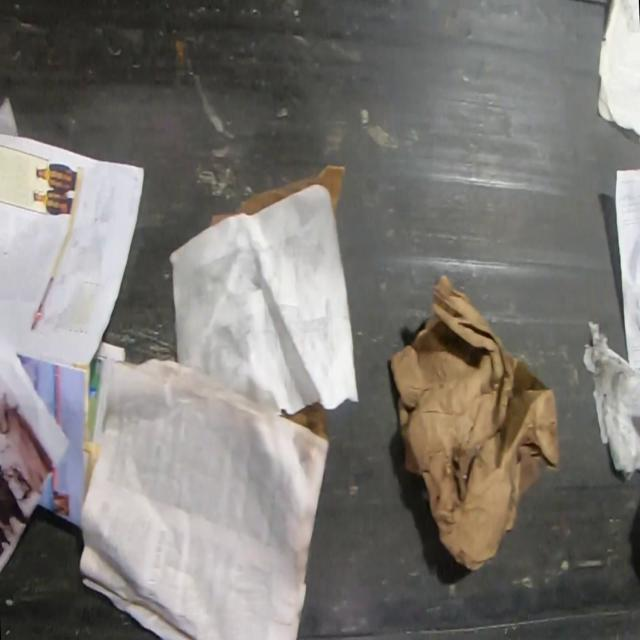cardboard: (391, 278, 564, 569), (248, 166, 349, 236), (278, 404, 329, 440)
